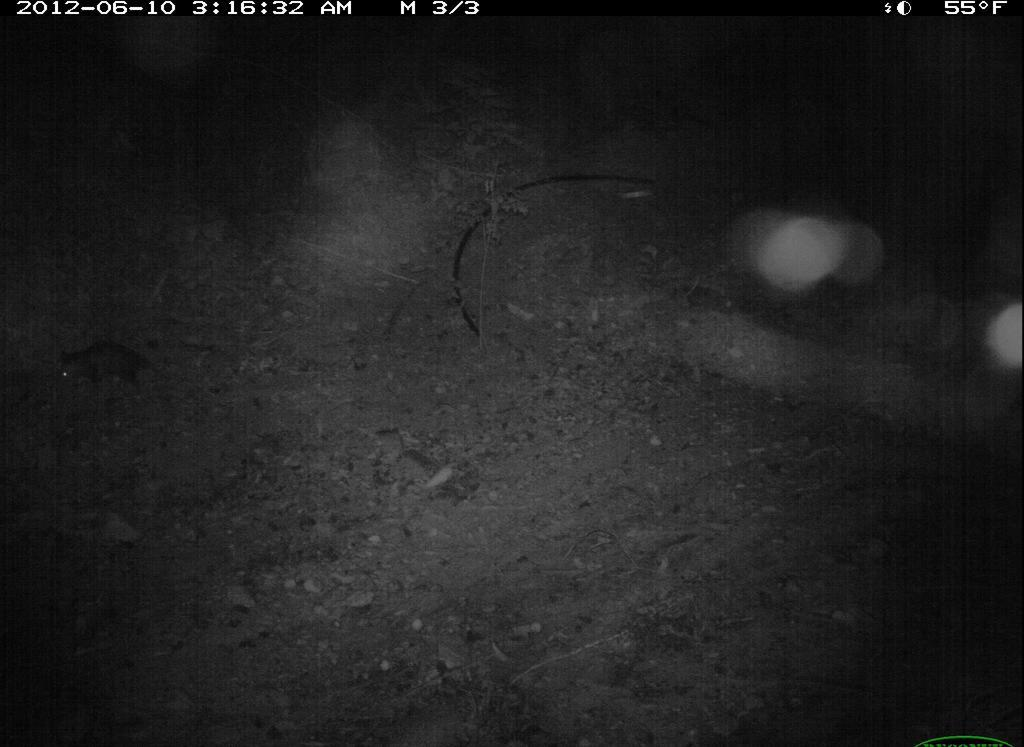opossum: (43, 335, 173, 408)
